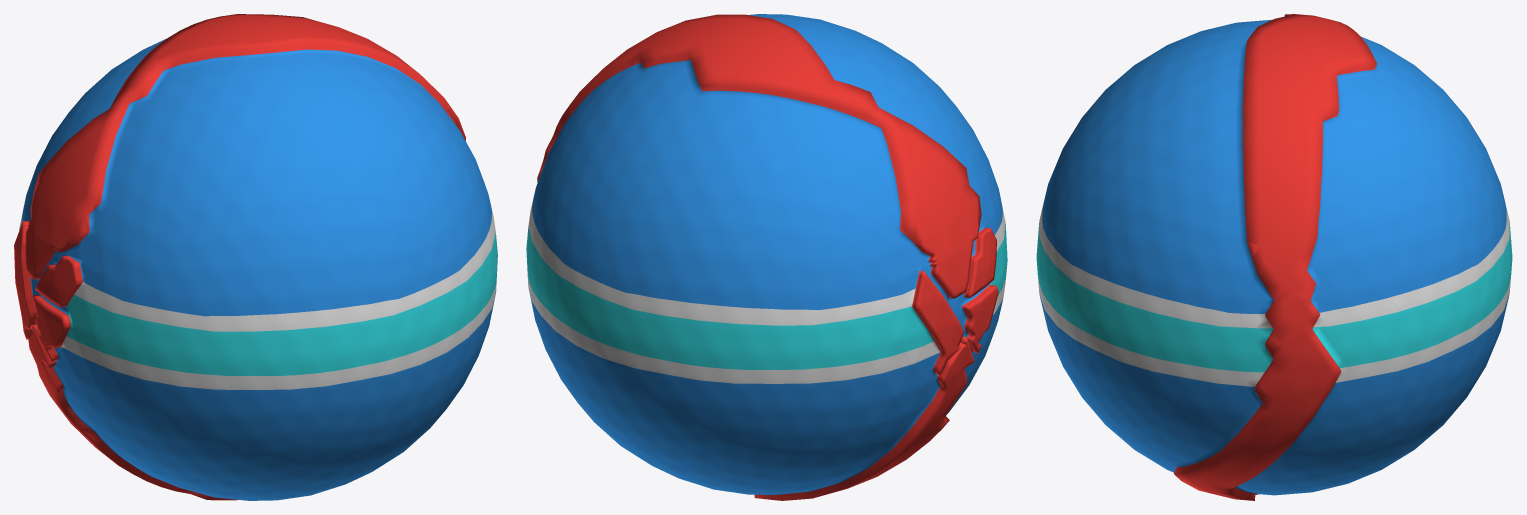
File: GolfBall.fbx
3 renders of one model, left to right at view 1: azimuth 30°, elevation 25°; view 2: azimuth 150°, elevation 25°; view 3: azimuth 270°, elevation 25°, orthographic.
Visible parts, largest first — view 1: Icosphere; view 2: Icosphere; view 3: Icosphere.
Part boxes in pixels (x1,y1,x2,y2): Icosphere: (14, 14, 497, 500); Icosphere: (526, 14, 1007, 500); Icosphere: (1036, 14, 1512, 500).
Bounding box in the file's own units: 206 × 206 × 200.
